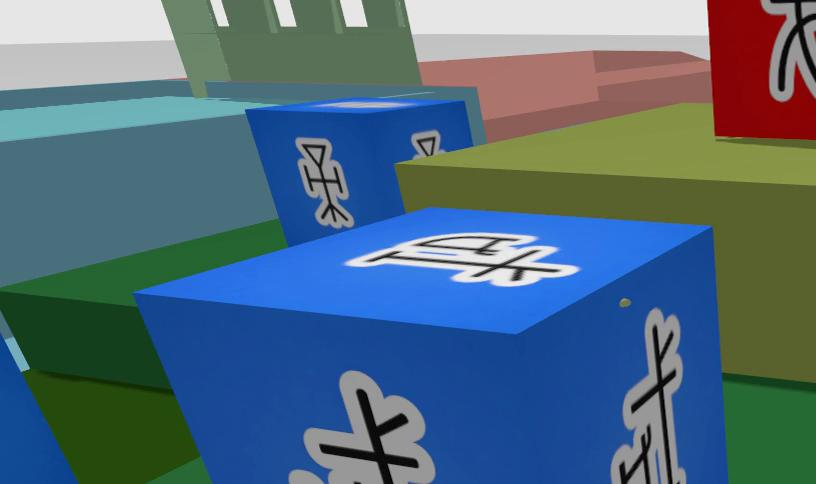KFS_FAKE: (708, 0, 816, 139), (760, 0, 816, 101)
KFS_REAL: (135, 208, 726, 484), (246, 98, 473, 244), (289, 371, 434, 484), (611, 308, 685, 484), (345, 232, 579, 286), (295, 138, 354, 228)
